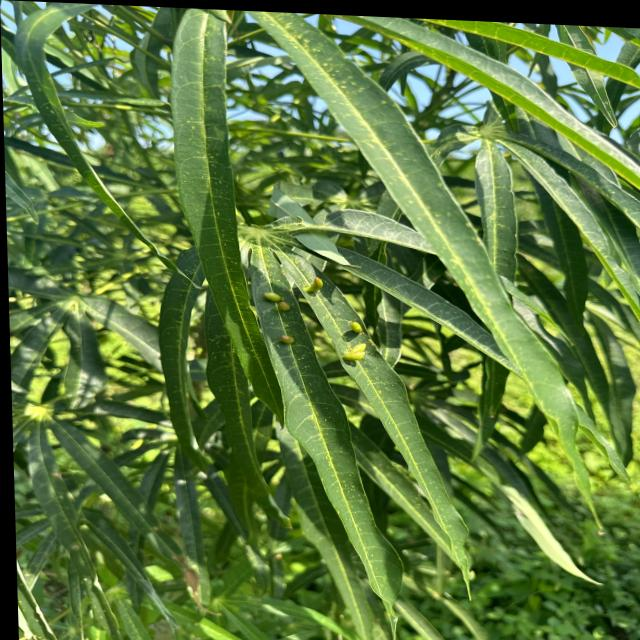Mosca: (339, 313, 388, 384), (246, 321, 312, 362), (251, 282, 298, 319), (299, 266, 329, 296)
